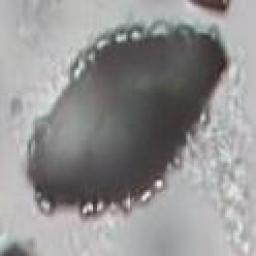crystals: (25, 26, 230, 216)
